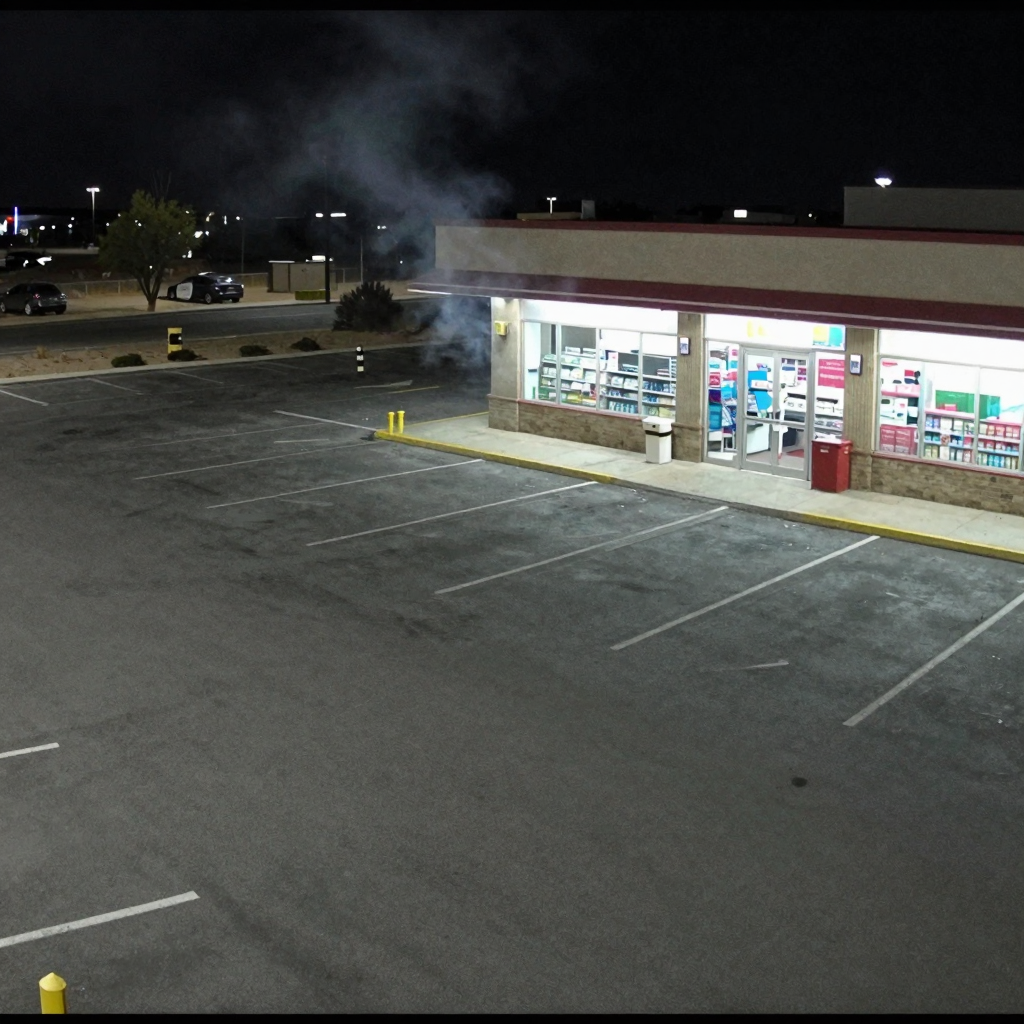Explosion: (276, 0, 541, 400)
